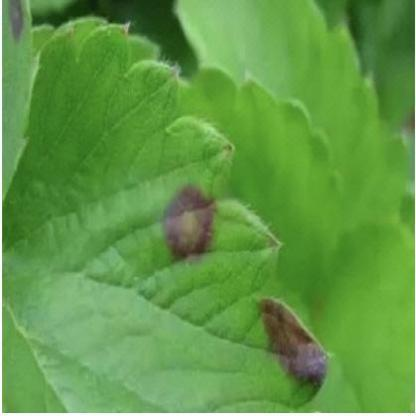Strawberry_Leaf_Spot: (2, 20, 335, 413), (2, 0, 36, 201)
